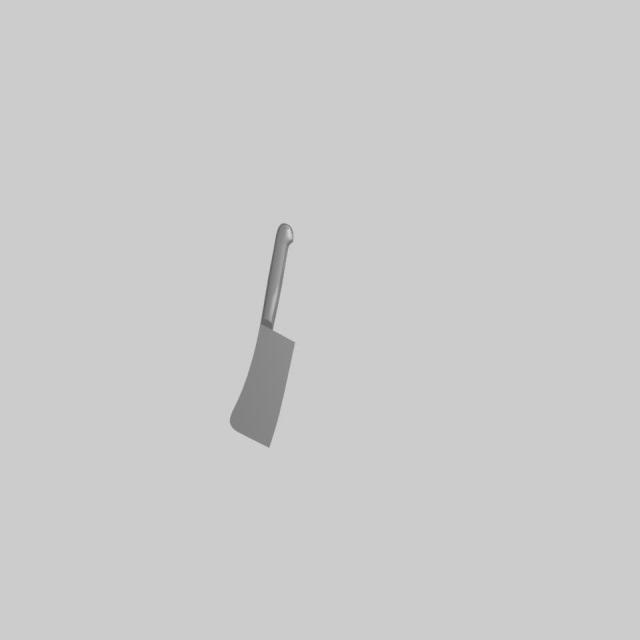knife: (260, 224, 294, 330)
